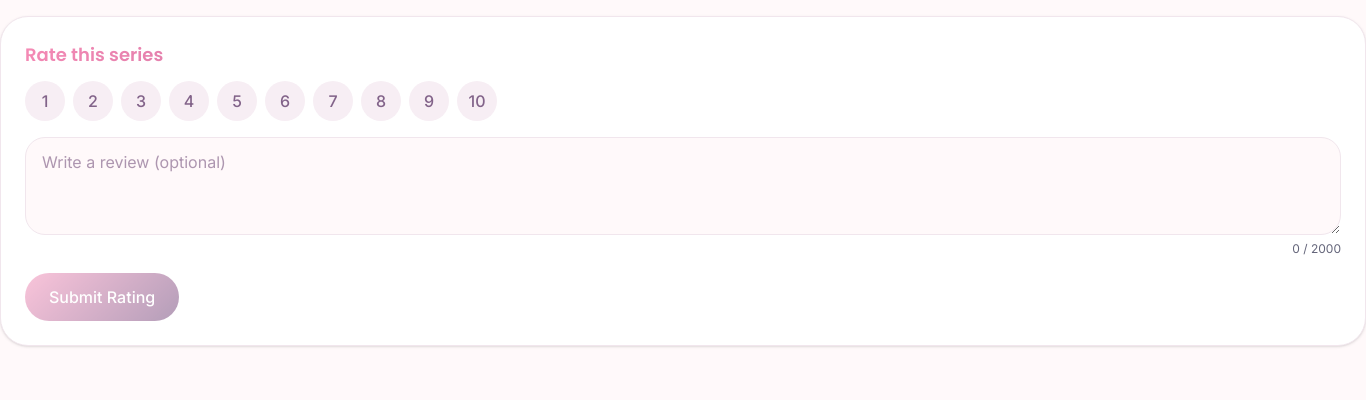
Test: RatingForm › shows an inline error when the submission fails
Click the button "5": click(237, 101) [217,81,257,121]
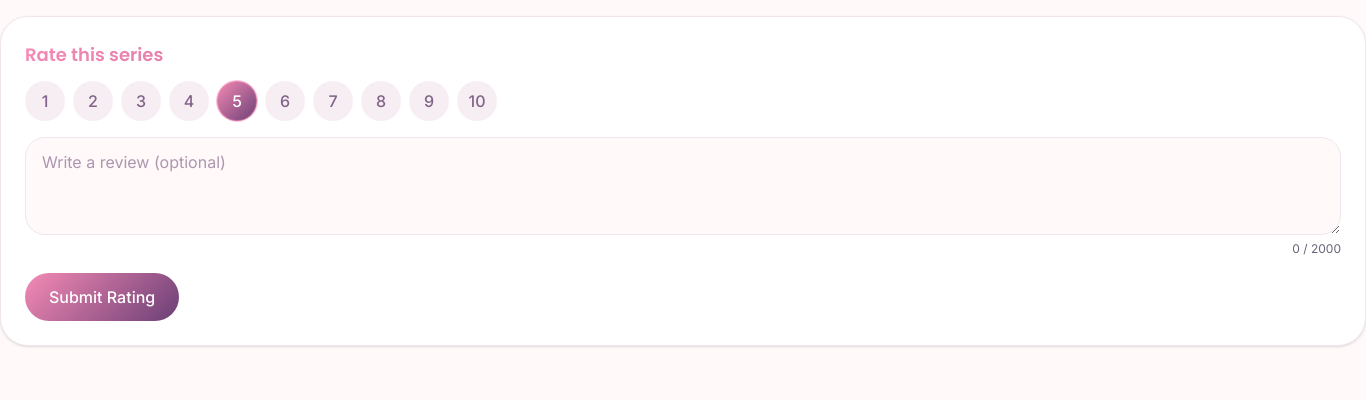
Click the button "Submit Rating": click(102, 297) [25,273,179,321]
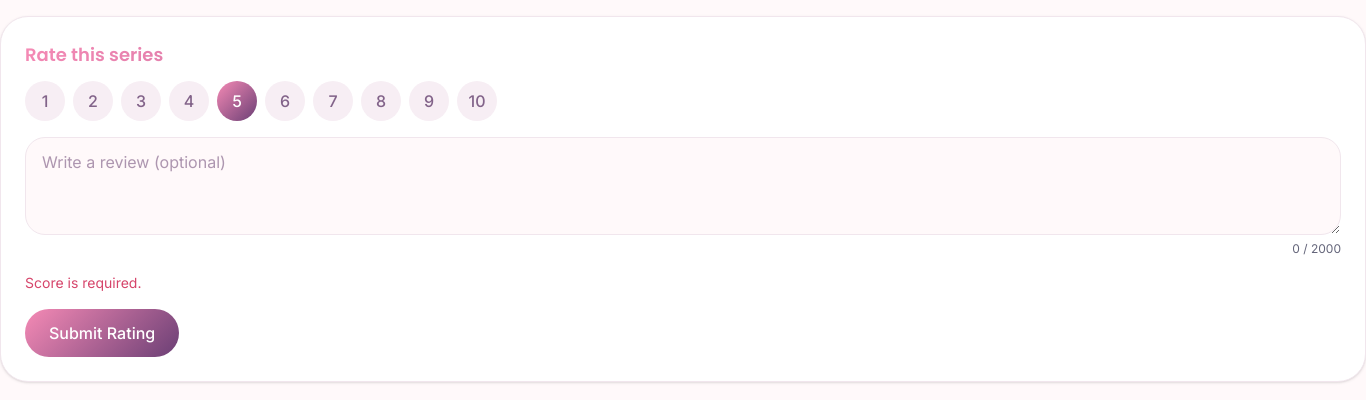
Expected: the message reads "Score is required.", [25,274,142,291]
